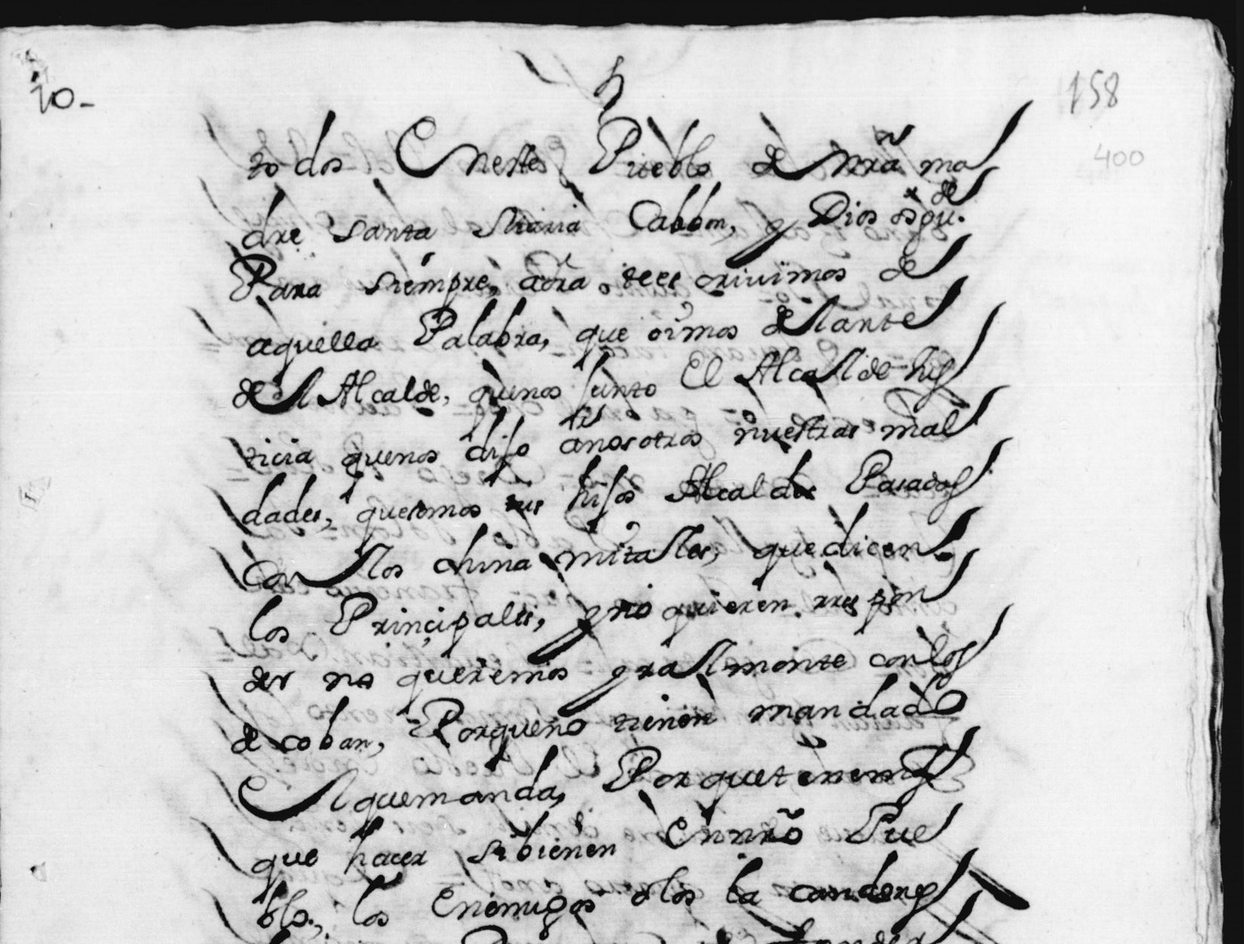lacandon: (726, 847, 982, 934)
